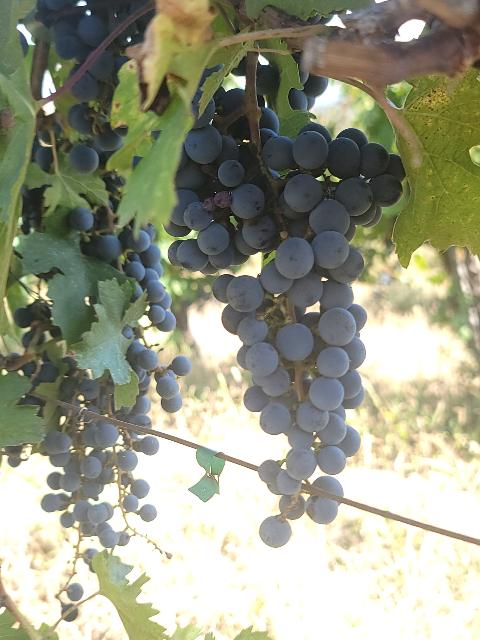grapes: (169, 124, 405, 546)
